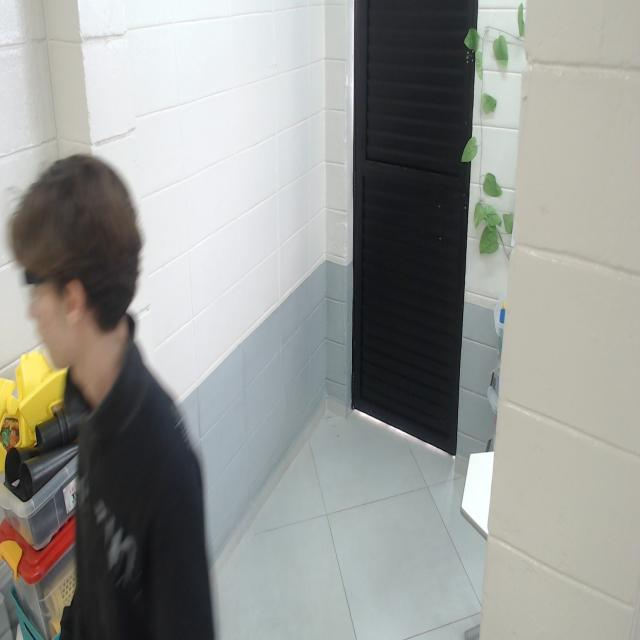oculos-epi: (20, 271, 78, 321)
